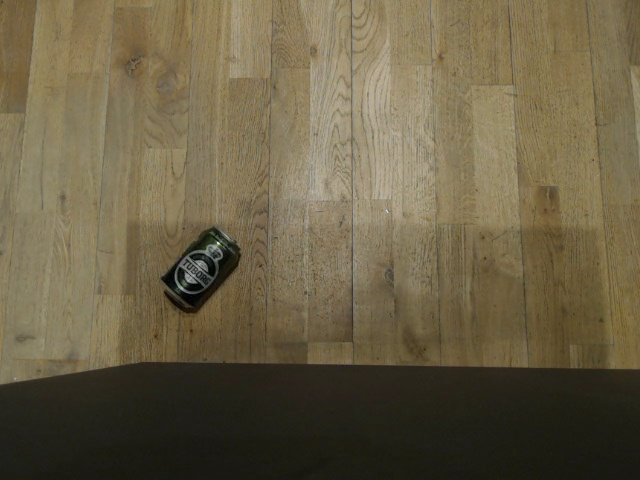beer: (156, 223, 243, 314)
